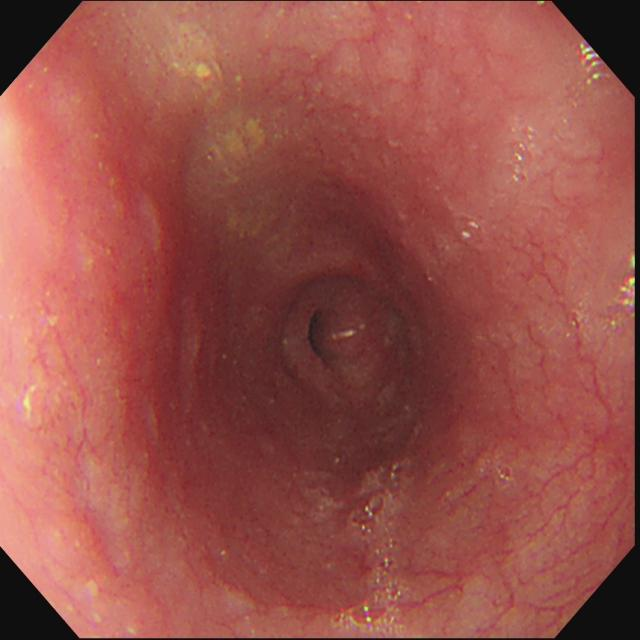E: (291, 280, 385, 390)
J: (171, 32, 216, 82), (221, 116, 266, 166)
T: (351, 472, 400, 635)
U: (580, 40, 606, 83), (619, 255, 636, 320)
